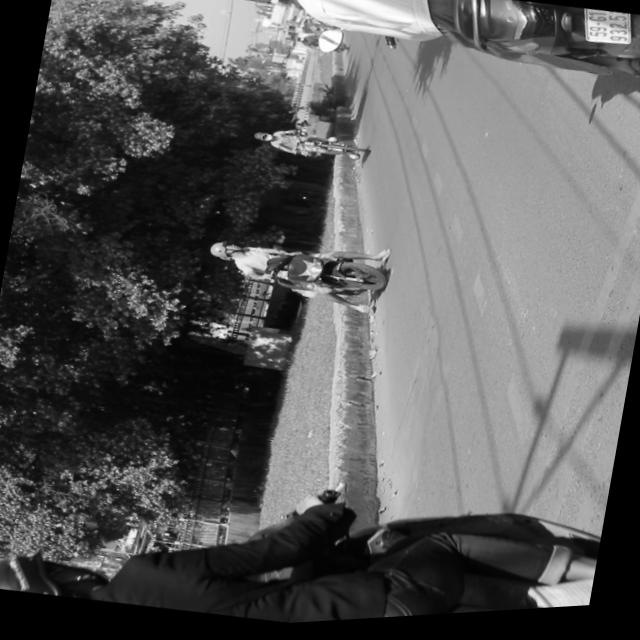helmet: (0, 540, 111, 607), (222, 0, 296, 14), (206, 240, 244, 265)
licenseplate: (0, 413, 603, 640), (207, 0, 640, 128), (200, 225, 394, 327)
nohelmet: (580, 13, 631, 54)
